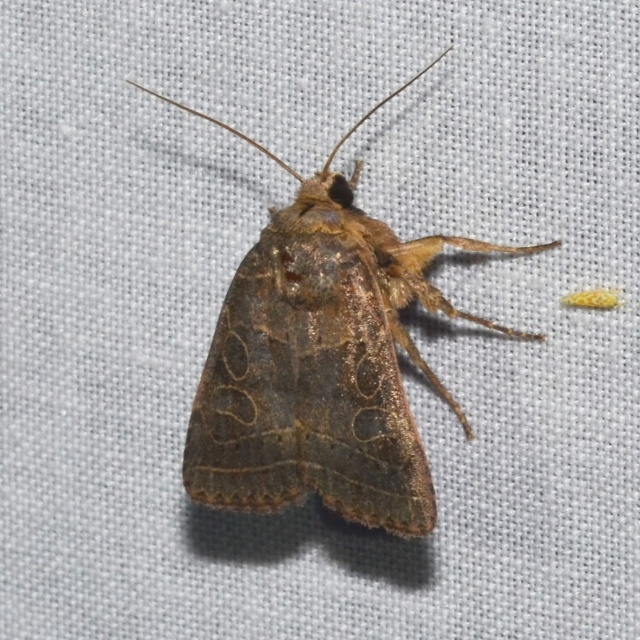Moths and butterflies: (126, 44, 565, 546)
